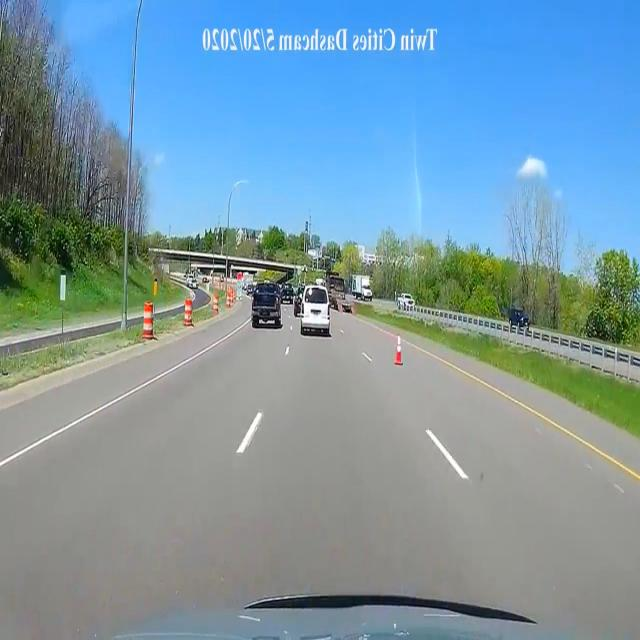cone: (389, 334, 403, 367)
